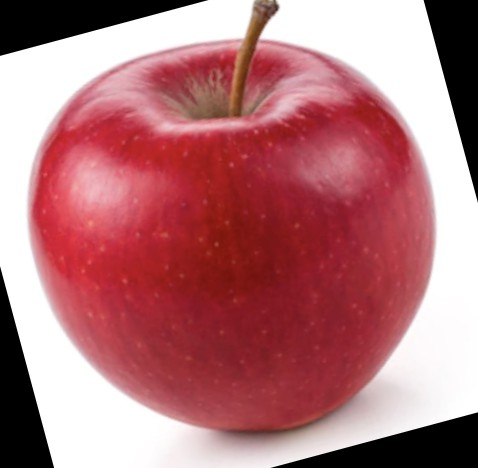fresh_apple: (29, 38, 438, 433)
